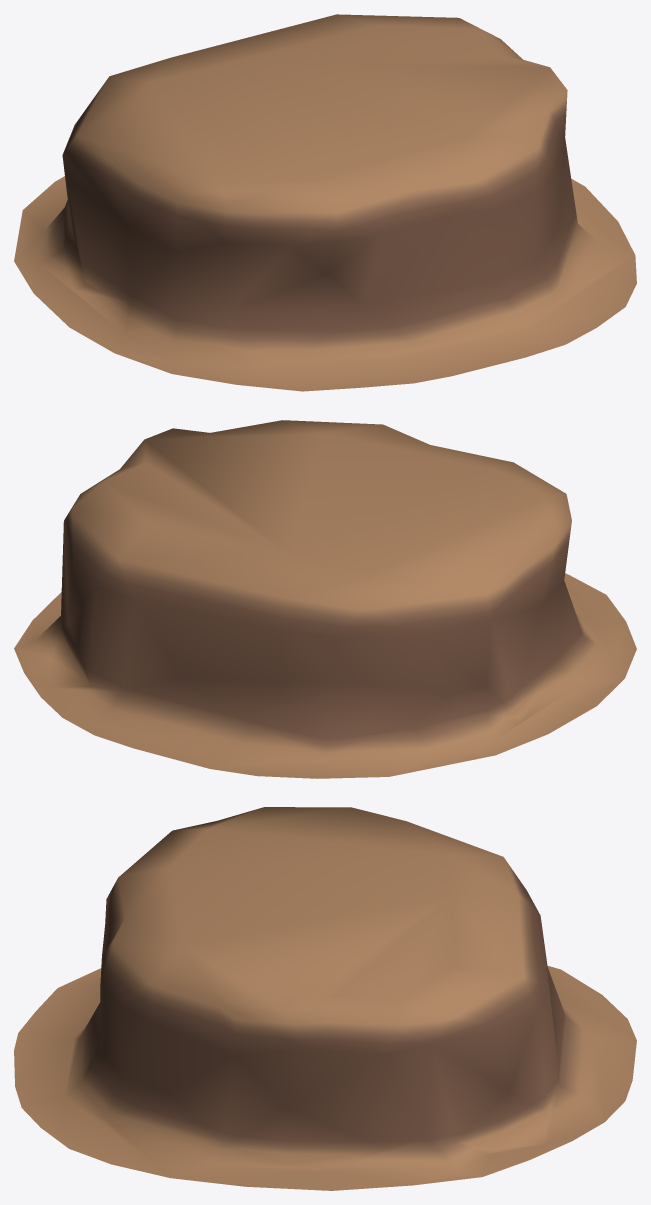
The model's file is Mines Model 16 M Big.glb.
3 renders of one model, top to bottom at view 1: azimuth 30°, elevation 25°; view 2: azimuth 150°, elevation 25°; view 3: azimuth 270°, elevation 25°, orthographic. The views are drawn at different scales.
Visible parts, largest first — view 1: Mines Model 16 M cake; view 2: Mines Model 16 M cake; view 3: Mines Model 16 M cake.
Part boxes in pixels (x1,y1,x2,y2): Mines Model 16 M cake: [14, 14, 636, 391]; Mines Model 16 M cake: [14, 420, 636, 778]; Mines Model 16 M cake: [14, 807, 636, 1190].
Size of what is drawn, in the model's own units: 17.2 by 4.91 by 17.43.
1 material, 1 textured.
